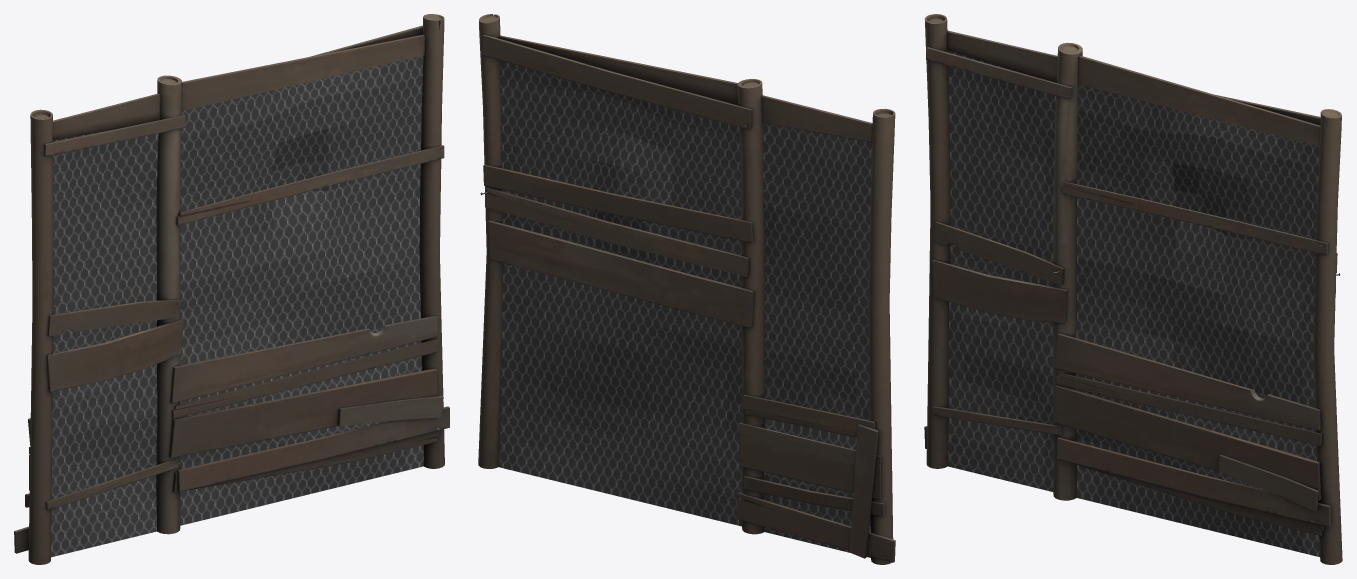
3 views of the same model, side by side, from view 1: azimuth 30°, elevation 25°; view 2: azimuth 150°, elevation 25°; view 3: azimuth 330°, elevation 25° (orthographic).
Visible parts, largest first — view 1: body0_model0_lod0_mesh0, body0_model0_lod0_mesh1; view 2: body0_model0_lod0_mesh0, body0_model0_lod0_mesh1; view 3: body0_model0_lod0_mesh0, body0_model0_lod0_mesh1.
Part boxes in pixels (x1,y1,x2,y2): body0_model0_lod0_mesh0: (51,55,423,557); body0_model0_lod0_mesh1: (14,14,449,564); body0_model0_lod0_mesh0: (498,60,871,557); body0_model0_lod0_mesh1: (478,14,895,564); body0_model0_lod0_mesh0: (947,50,1319,556); body0_model0_lod0_mesh1: (924,14,1342,564).
Size of the model in its own units: 265 by 268 by 24.88.
2 materials, 2 textured.
